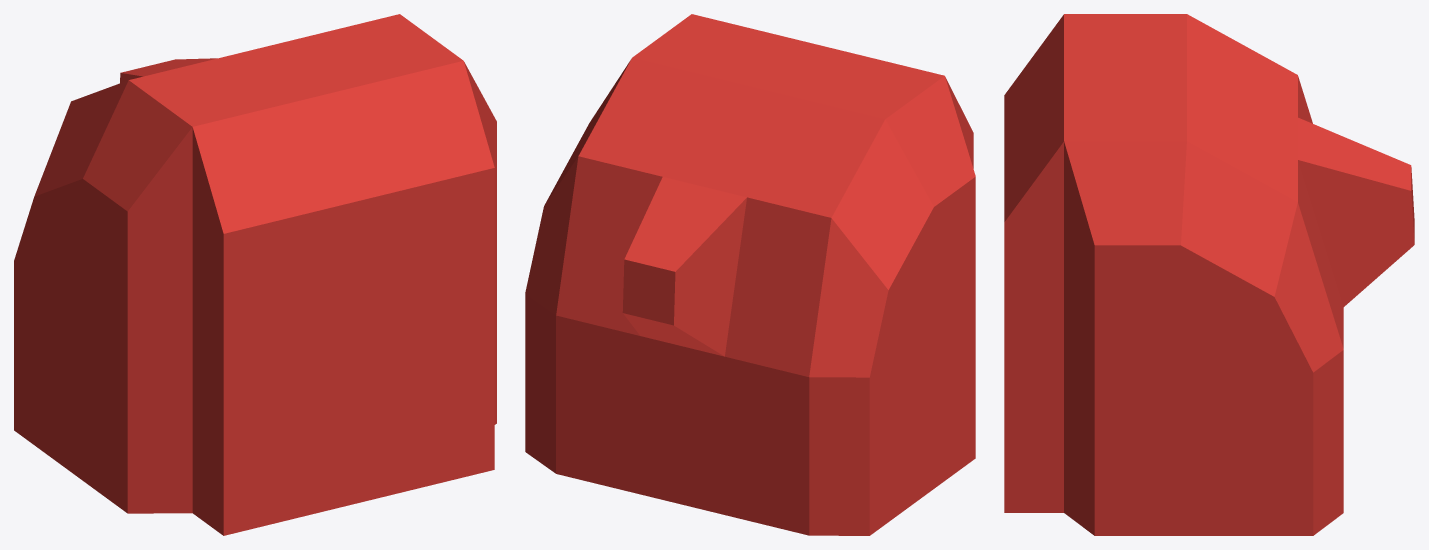
The model's file is Swarm.fbx.
3 views of the same model, side by side, from view 1: azimuth 30°, elevation 25°; view 2: azimuth 150°, elevation 25°; view 3: azimuth 270°, elevation 25° (orthographic). The views are drawn at different scales.
Visible parts, largest first — view 1: Swarm, Swarm.001; view 2: Swarm, Swarm.001; view 3: Swarm, Swarm.001.
Boxes of the visible parts, x1,y1,x2,y2 form: Swarm: (14, 14, 496, 365); Swarm.001: (14, 254, 496, 535); Swarm: (525, 14, 975, 377); Swarm.001: (525, 294, 975, 535); Swarm: (1004, 14, 1414, 372); Swarm.001: (1004, 349, 1343, 535).
Size of the model in its own units: 1000 by 1000 by 1000.
